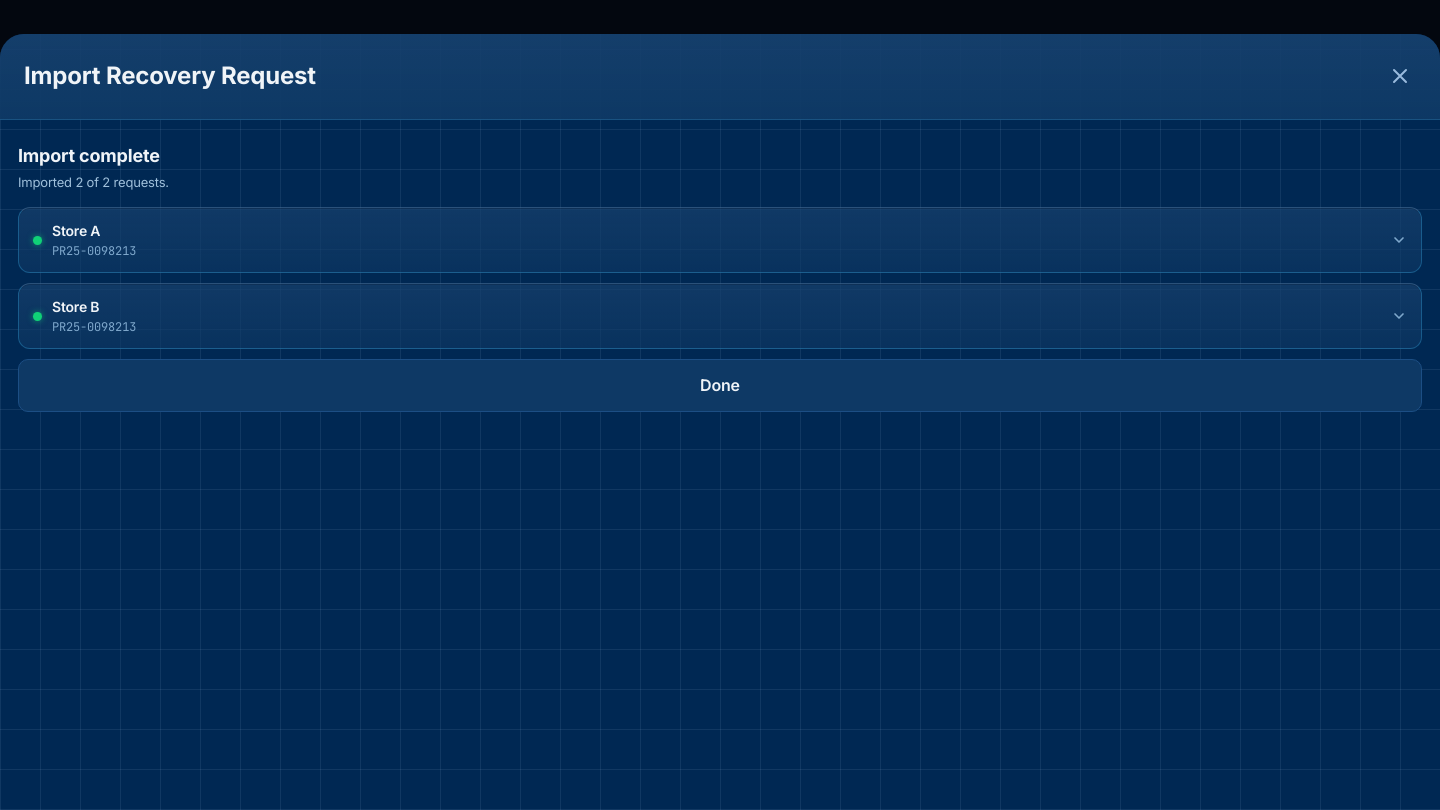
Test: ImportModal › batch accordions are single-open and toggle off (M6)
The width and height of the screenshot is (1440, 810).
Click the button "Store A PR25-0098213": (76, 231) [19,208,1421,272]
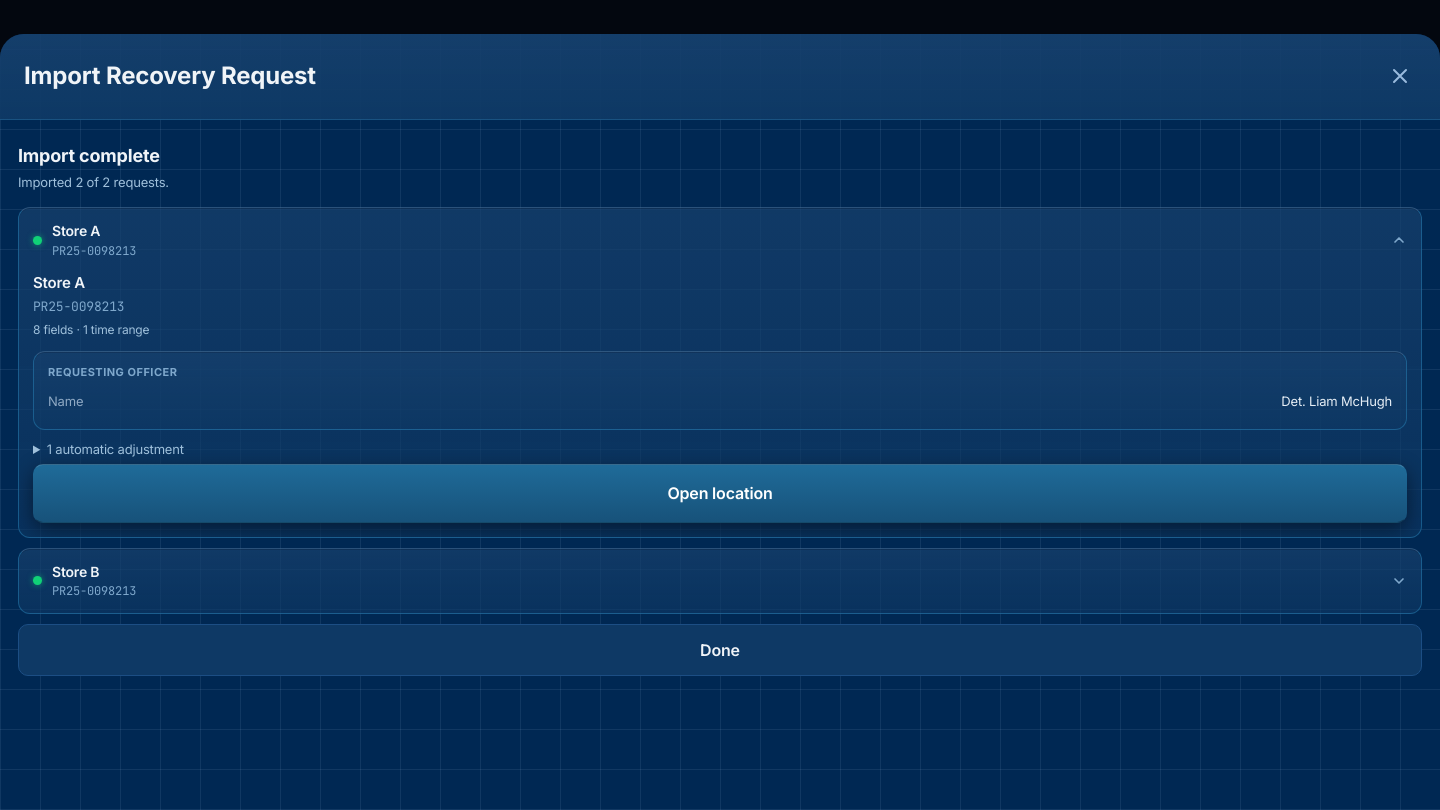
Check: the text "Requesting Officer" is shown once, box [48,366,178,380]
Click the button "Store B PR25-0098213": (76, 571) [19,549,1421,612]
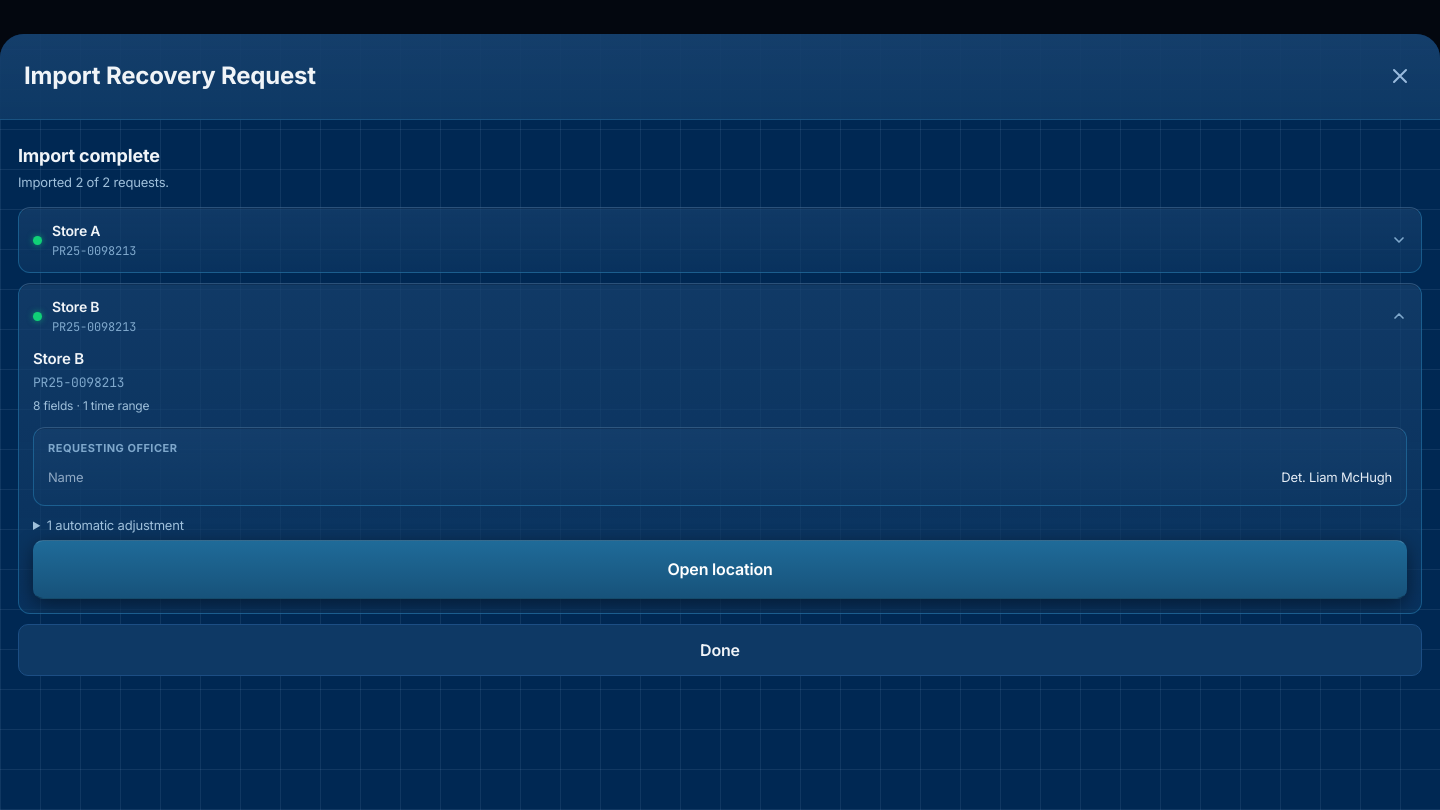
Check: the text "Requesting Officer" is shown once, box [48,441,178,455]
Click the button "Store B PR25-0098213": (76, 307) [19,284,1421,348]
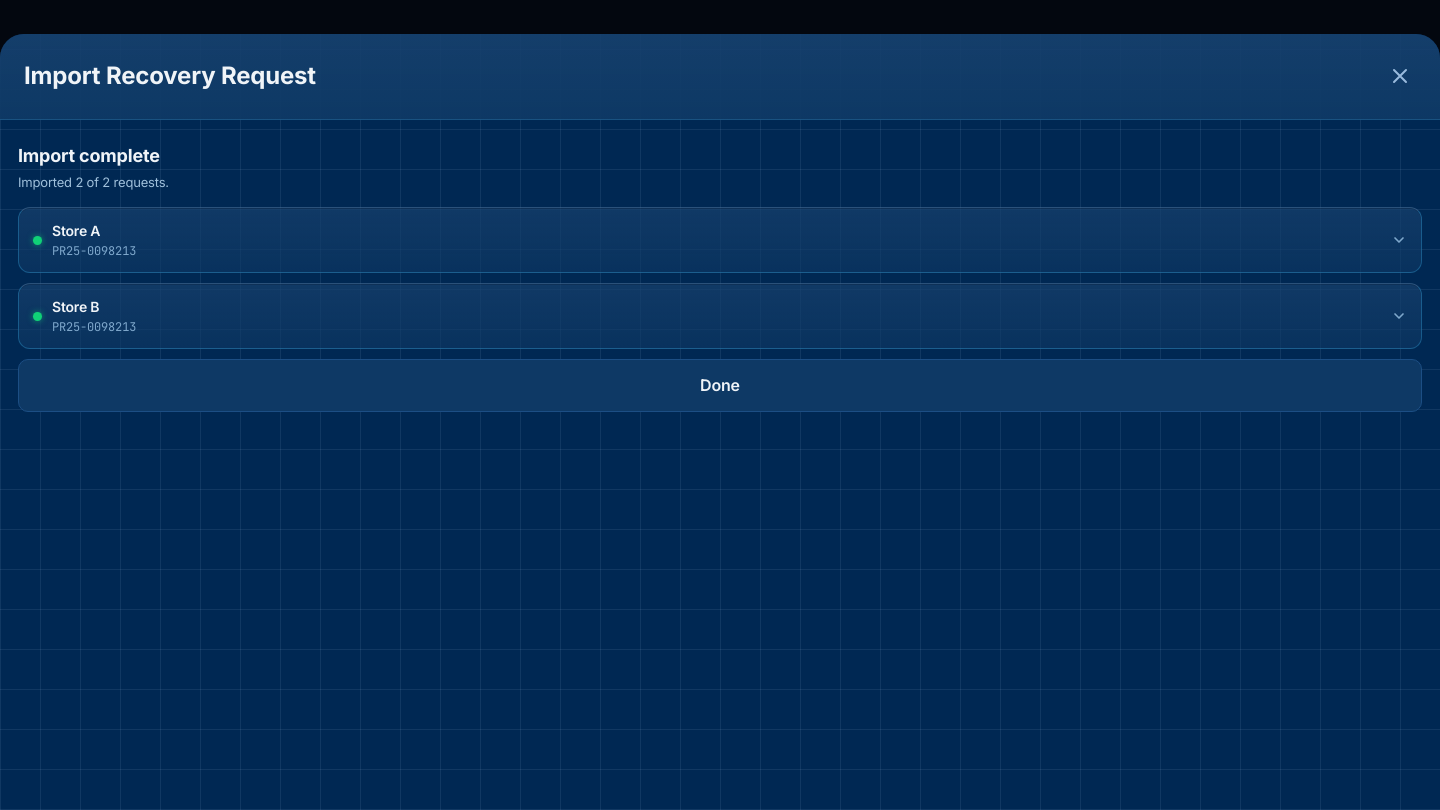
Check: the text "Requesting Officer" is gone
